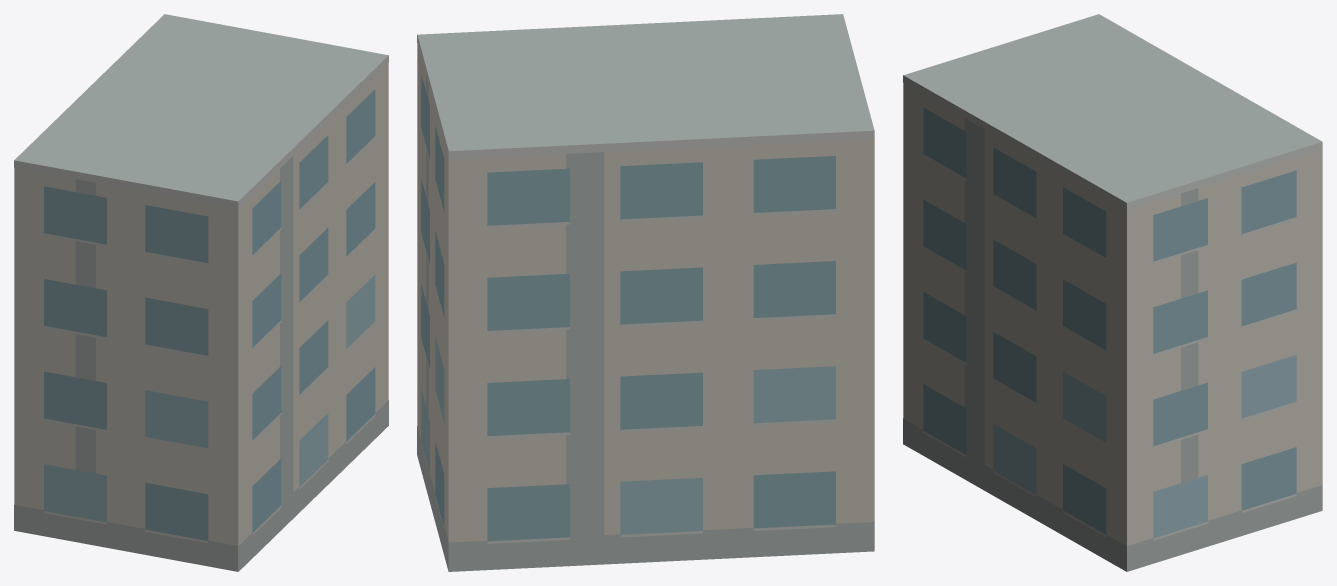
The model's file is residential-a081a9d6-16f0-4ae3-a859-457855d86d88.glb.
3 renders of one model, left to right at view 1: azimuth 30°, elevation 25°; view 2: azimuth 150°, elevation 25°; view 3: azimuth 270°, elevation 25°, orthographic. The views are drawn at different scales.
Visible parts, largest first — view 1: residential-a081a9d6-16f0-4ae3-a859-457855d86d88.tmp; view 2: residential-a081a9d6-16f0-4ae3-a859-457855d86d88.tmp; view 3: residential-a081a9d6-16f0-4ae3-a859-457855d86d88.tmp.
Part boxes in pixels (x1=…): residential-a081a9d6-16f0-4ae3-a859-457855d86d88.tmp: x1=14, y1=14, x2=388, y2=571; residential-a081a9d6-16f0-4ae3-a859-457855d86d88.tmp: x1=417, y1=14, x2=874, y2=571; residential-a081a9d6-16f0-4ae3-a859-457855d86d88.tmp: x1=903, y1=14, x2=1322, y2=571.
Bounding box in the file's own units: 13.4 × 12.2 × 12.58.
